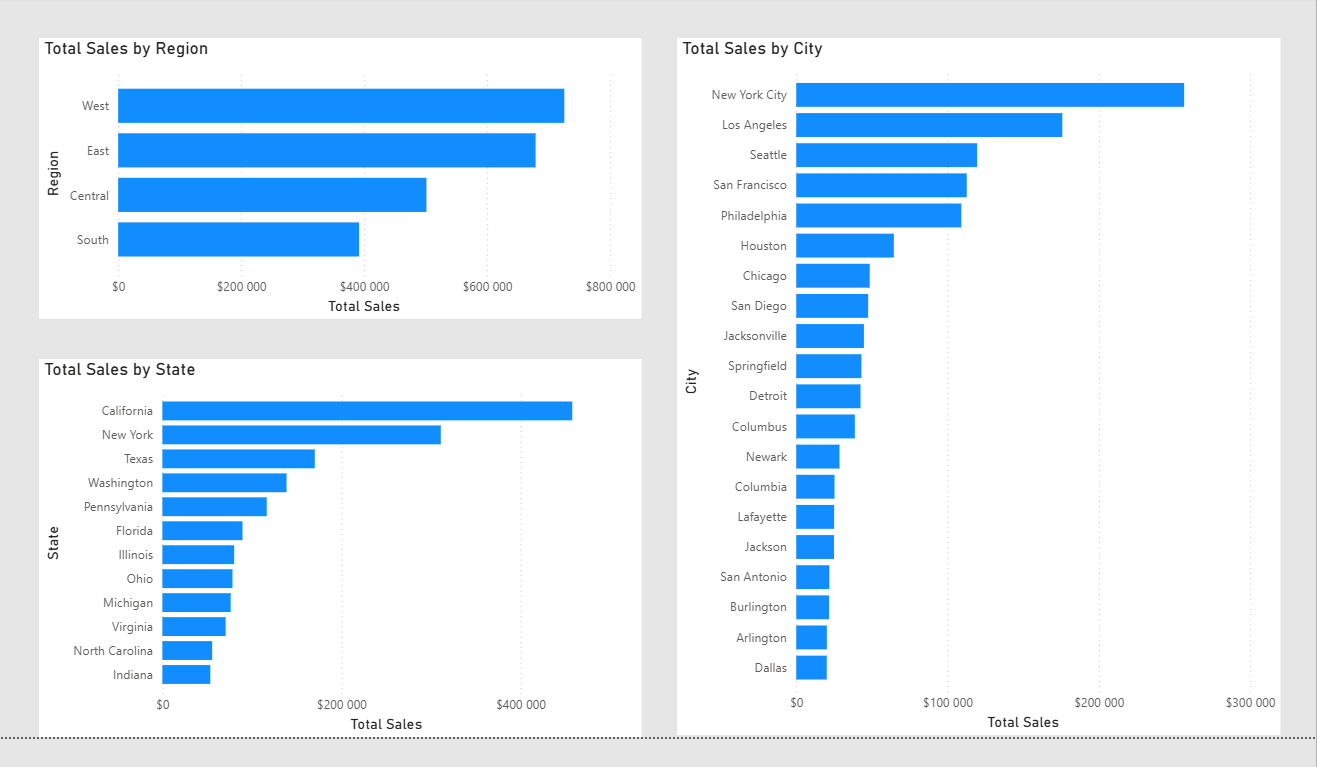

The dashboard page shown, as its layout file describes it:
{"tool":"powerbi","page":{"name":"Geography","canvas":[1280,720],"ordinal":2},"visuals":[{"type":"barChart","title":"Total Sales by Region","fields":{"Y":["FactOrders.Total Sales"],"Category":["DimLocation.Region"]},"box":[37.9,39.9,585.5,273.3],"z":0},{"type":"barChart","title":"Total Sales by State","fields":{"Y":["FactOrders.Total Sales"],"Category":["DimLocation.State"]},"box":[37.9,352.1,585.5,367.7],"z":1000},{"type":"barChart","title":"Total Sales by City","fields":{"Y":["FactOrders.Total Sales"],"Category":["DimLocation.City"]},"box":[658.5,39.9,587.5,677.9],"z":2000}]}

Visuals, with their boxes on the page's 1280x720 design canvas (x1, y1, x2, y2). These are canvas units, not pixel positions in the 1317x767 screenshot, which may show the page scaled, cropped or inside an application window:
"Total Sales by Region" barChart: BBox(38, 40, 623, 313)
"Total Sales by State" barChart: BBox(38, 352, 623, 720)
"Total Sales by City" barChart: BBox(658, 40, 1246, 718)
